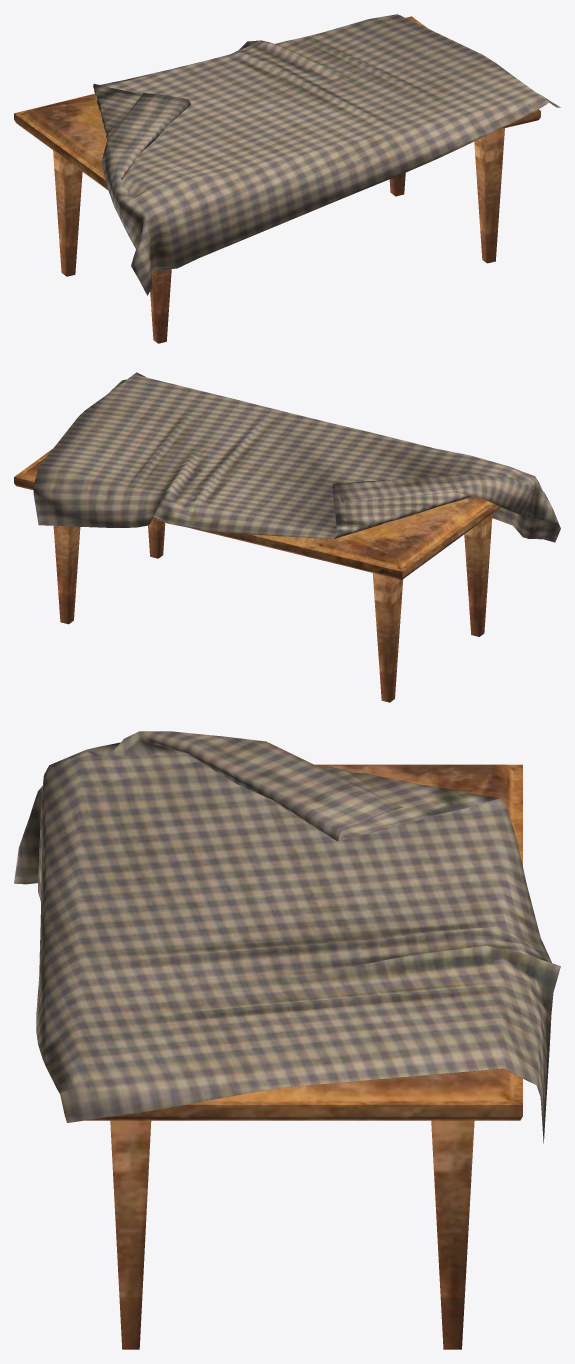
File: dining_table.glb
The picture shows the model from 3 angles, top to bottom: view 1: azimuth 30°, elevation 25°; view 2: azimuth 150°, elevation 25°; view 3: azimuth 270°, elevation 25°; orthographic projection. The views are drawn at different scales.
Parts seen in each view (by area): view 1: dining_table; view 2: dining_table; view 3: dining_table.
Boxes of the visible parts, <box> form: dining_table: <box>14,14,560,343</box>; dining_table: <box>14,372,560,702</box>; dining_table: <box>14,731,560,1349</box>.
Size of the model in its own units: 2.26 by 0.8769 by 1.39.
1 material, 1 textured.
